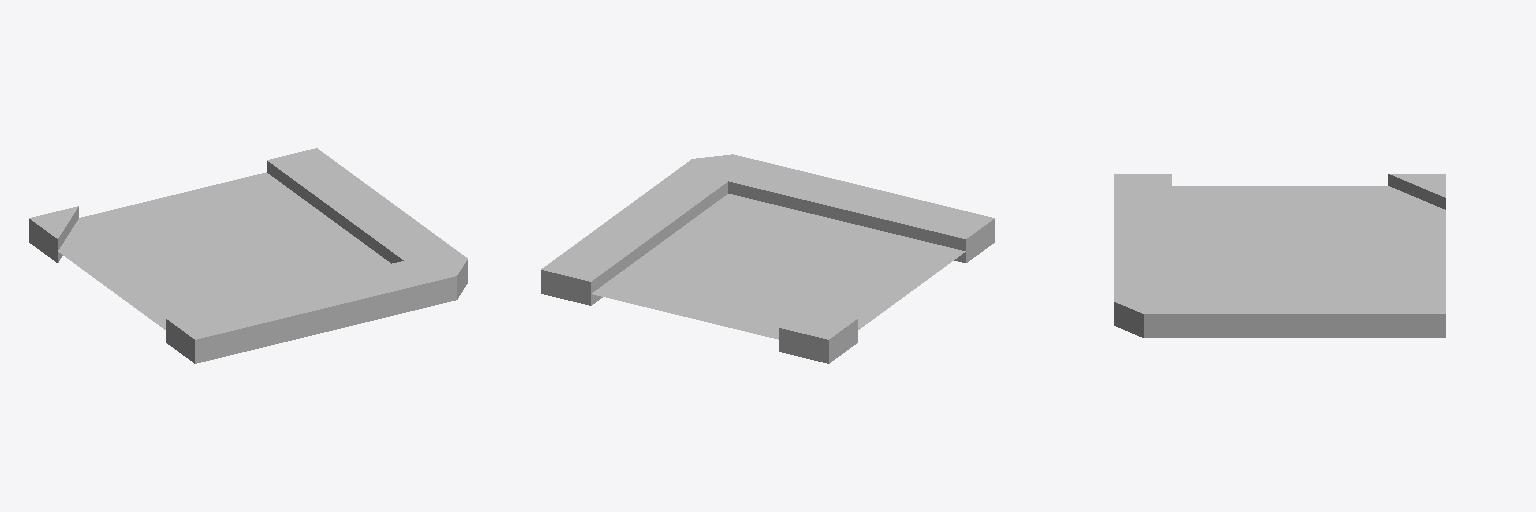
The model's file is metalTileConnectCornerInner.obj.
3 renders of one model, left to right at view 1: azimuth 30°, elevation 25°; view 2: azimuth 150°, elevation 25°; view 3: azimuth 270°, elevation 25°, orthographic.
Visible parts, largest first — view 1: metalTileConnectCornerInner; view 2: metalTileConnectCornerInner; view 3: metalTileConnectCornerInner.
Part boxes in pixels (x1,y1,x2,y2): metalTileConnectCornerInner: (29,148,467,363); metalTileConnectCornerInner: (541,154,994,363); metalTileConnectCornerInner: (1114,174,1445,337).
Size of the model in its own units: 10 by 0.8 by 10.